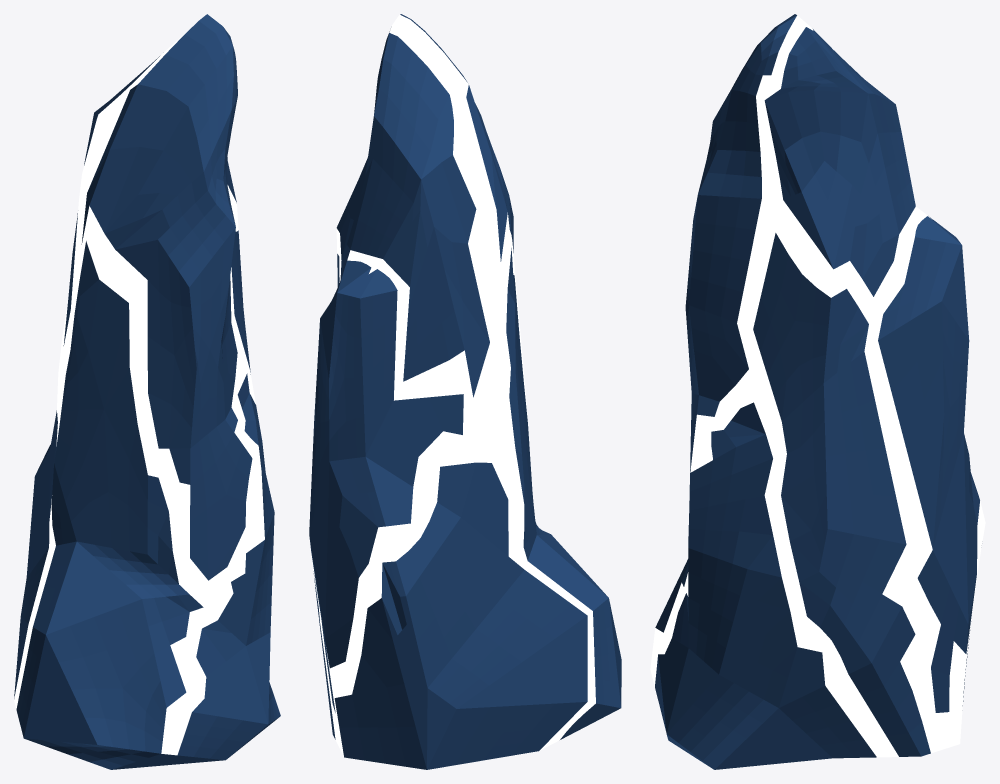
Rendered from portal.glb.
3 renders of one model, left to right at view 1: azimuth 30°, elevation 25°; view 2: azimuth 150°, elevation 25°; view 3: azimuth 270°, elevation 25°, orthographic. The views are drawn at different scales.
Parts seen in each view (by area): view 1: portal; view 2: portal; view 3: portal.
Part boxes in pixels (x1,y1,x2,y2): portal: [14, 14, 280, 769]; portal: [309, 14, 621, 769]; portal: [650, 14, 985, 769].
Bounding box in the file's own units: 3.45 × 8.64 × 3.51.
